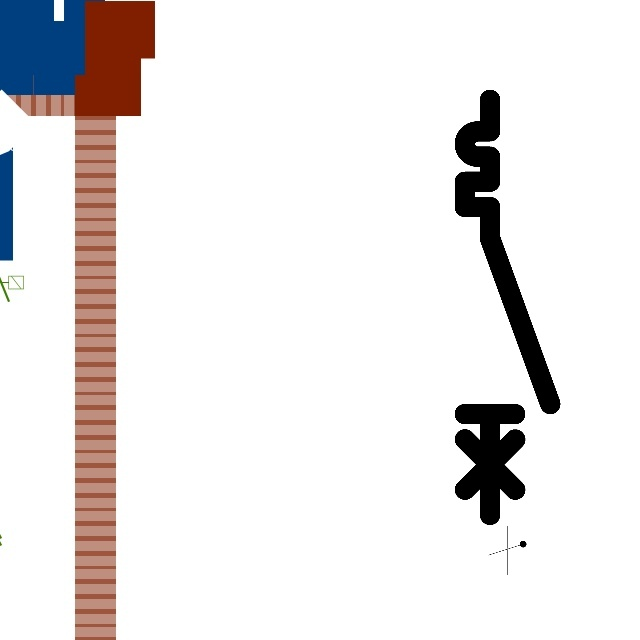interruptor_termomagnetico: (454, 89, 561, 525)
